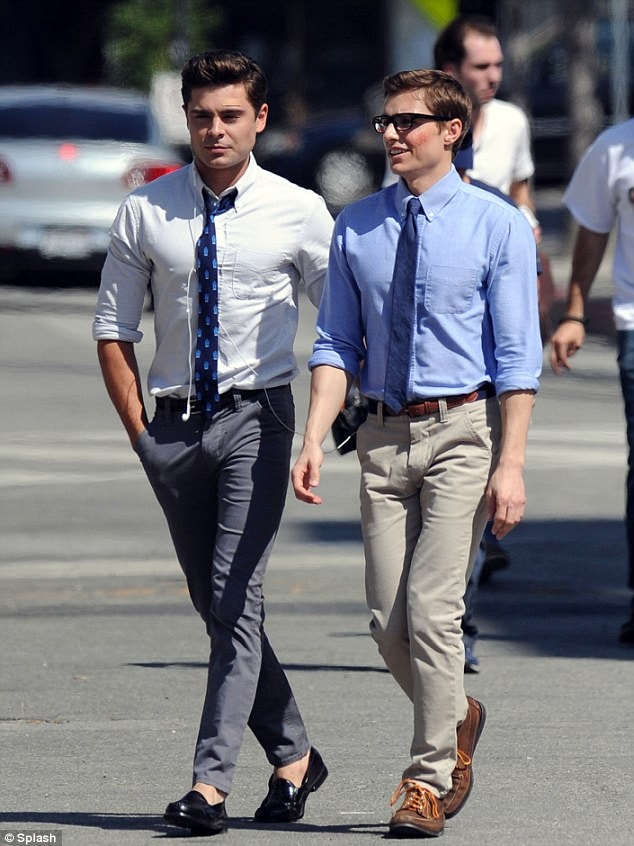NOTSAFE: (127, 44, 310, 463), (345, 69, 511, 478)
